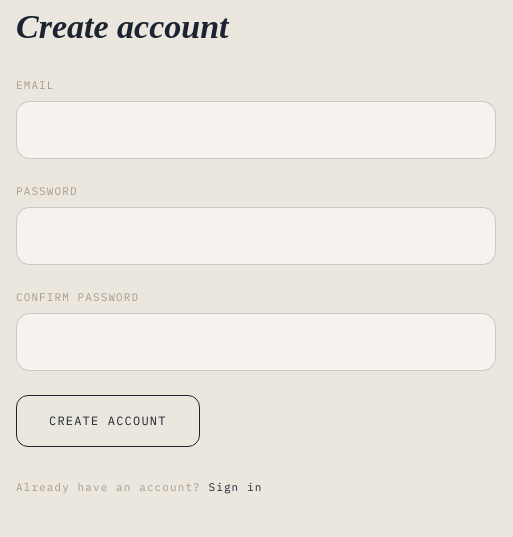
Scenario: RegisterView › blocks submission and sends no request when the password is too short
Type "user@example.com" into the field with id "email" at coordinates (256, 130), box [16,101,496,159]
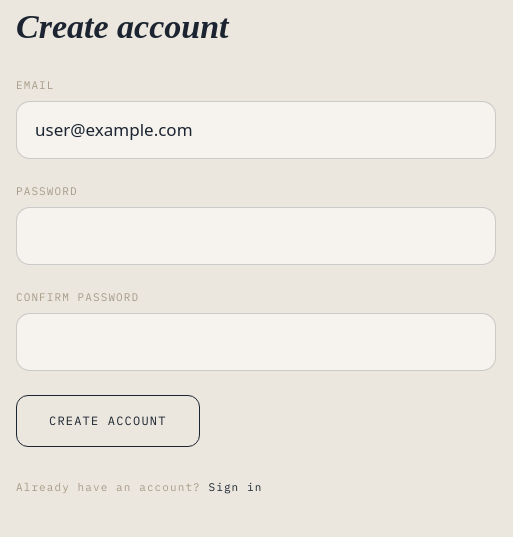
Type "short" into the password field labelled "Password" at coordinates (256, 236), box [16,207,496,265]
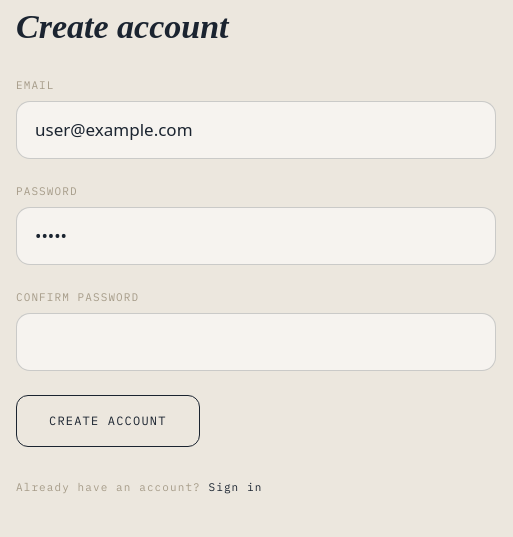
Type "short" into the password field with id "confirmPassword" at coordinates (256, 342), box [16,313,496,371]
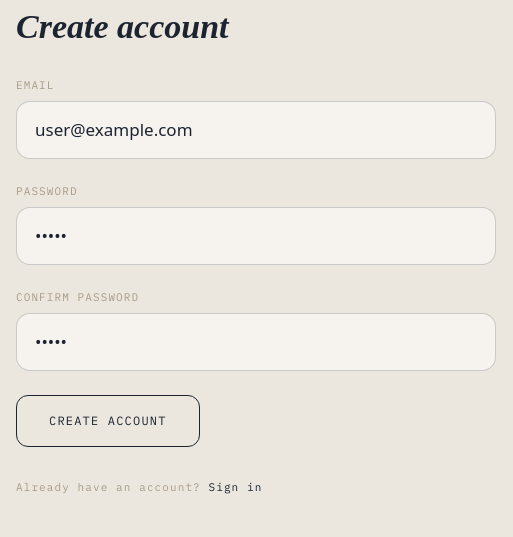
Submit the form
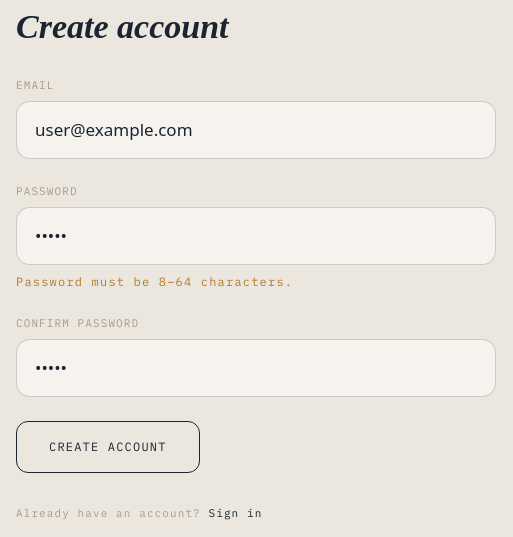
Check: the text "Password must be 8–64 characters." is shown, box [16,274,293,289]
